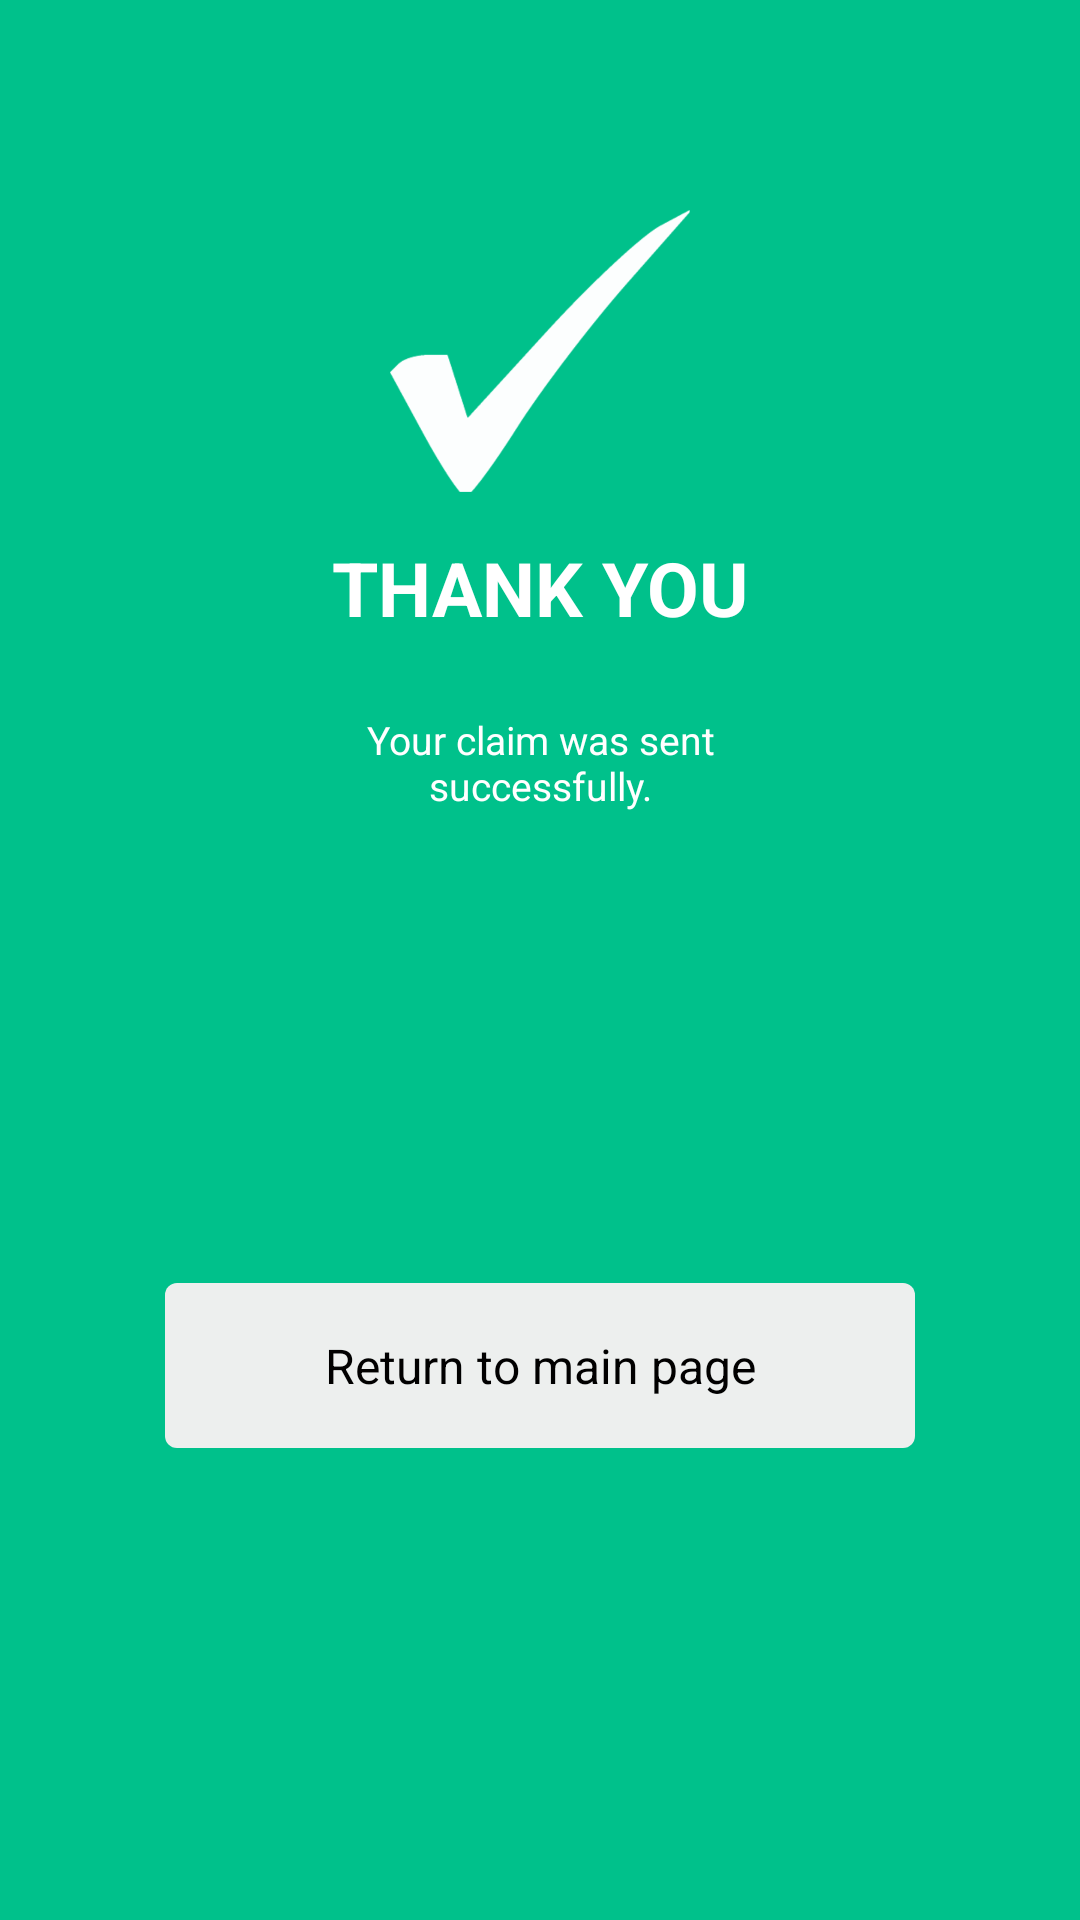

Named icons in this screenshot (1080w x 1920h) and their bounding boxes, [x1,y1,x2,y2]:
success: [390,210,690,492]
